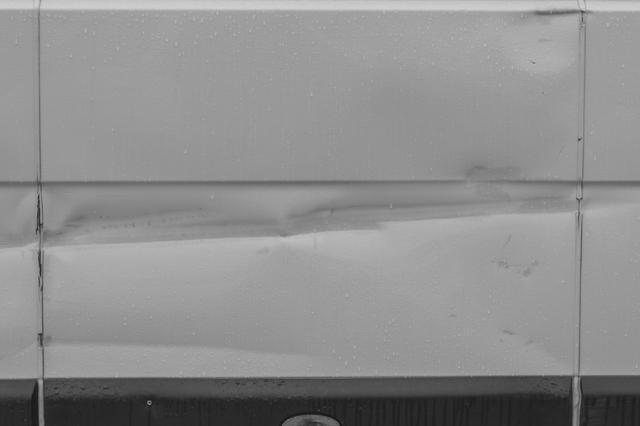Door: (0, 69, 640, 409)
